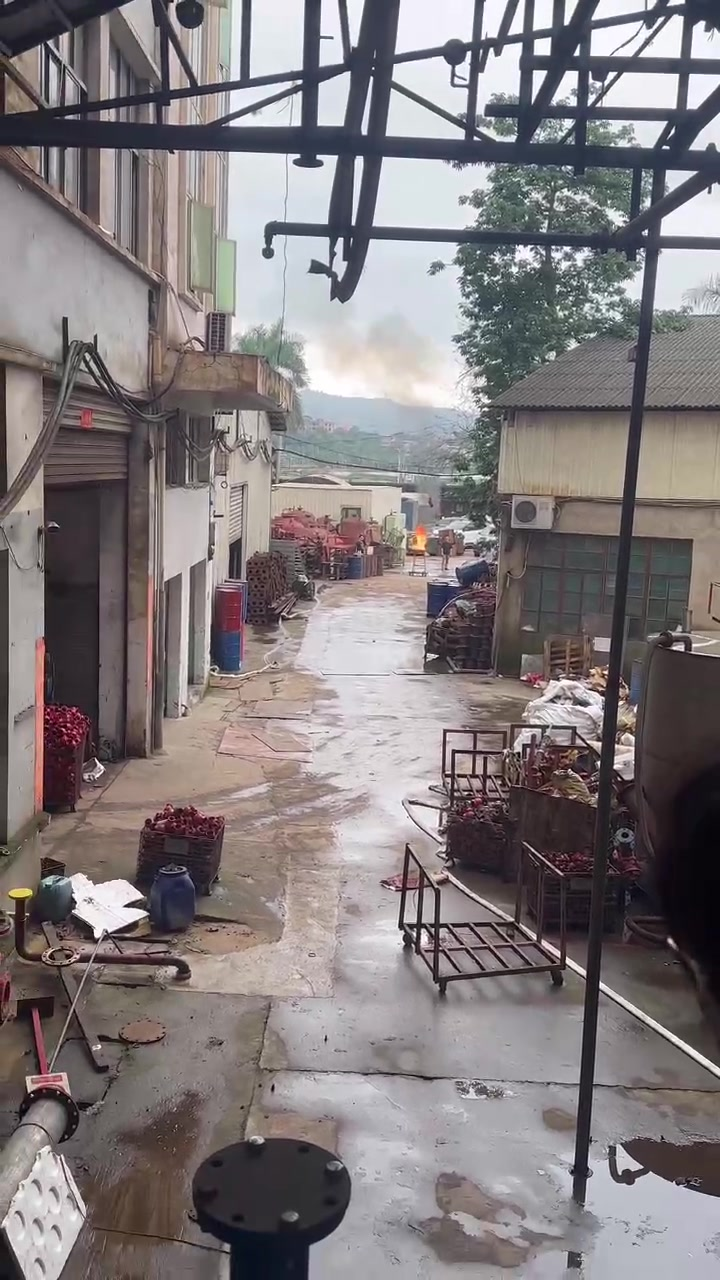fire: (411, 526, 426, 550)
